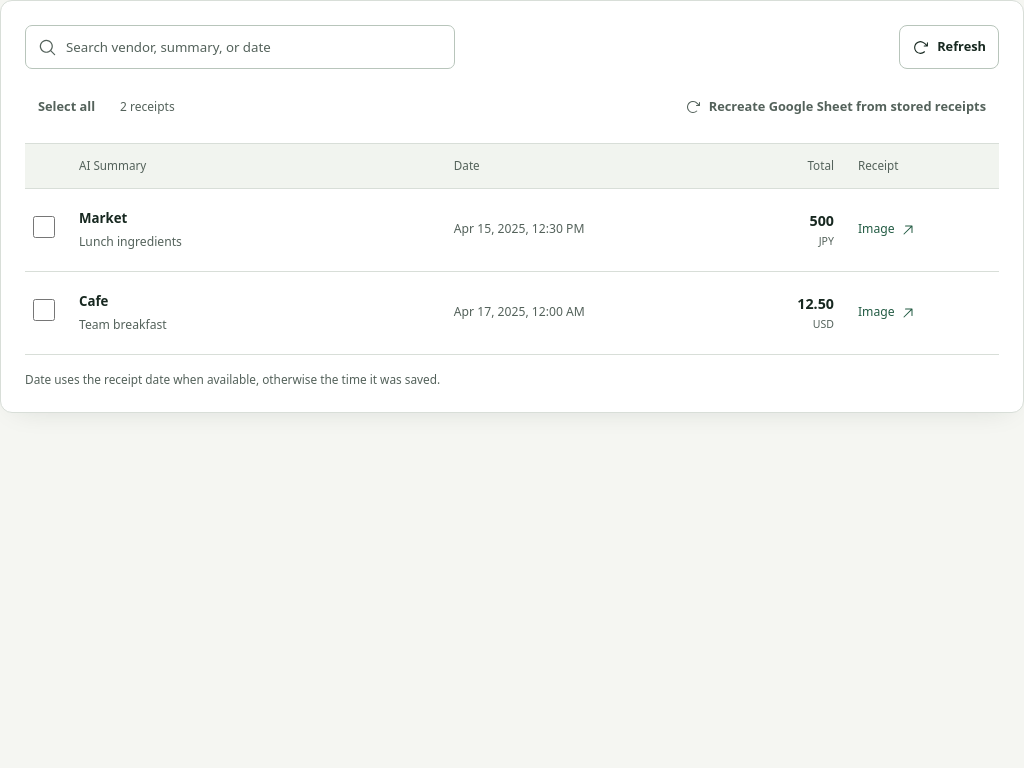
Test: confirmed deletion submits only selected IDs and reloads the list
Expected: the text "Cafe" is shown, x1=79 y1=292 x2=108 y2=310
Click the checkbox named "Select receipt cafe" at (44, 310), box x1=33 y1=299 x2=55 y2=321
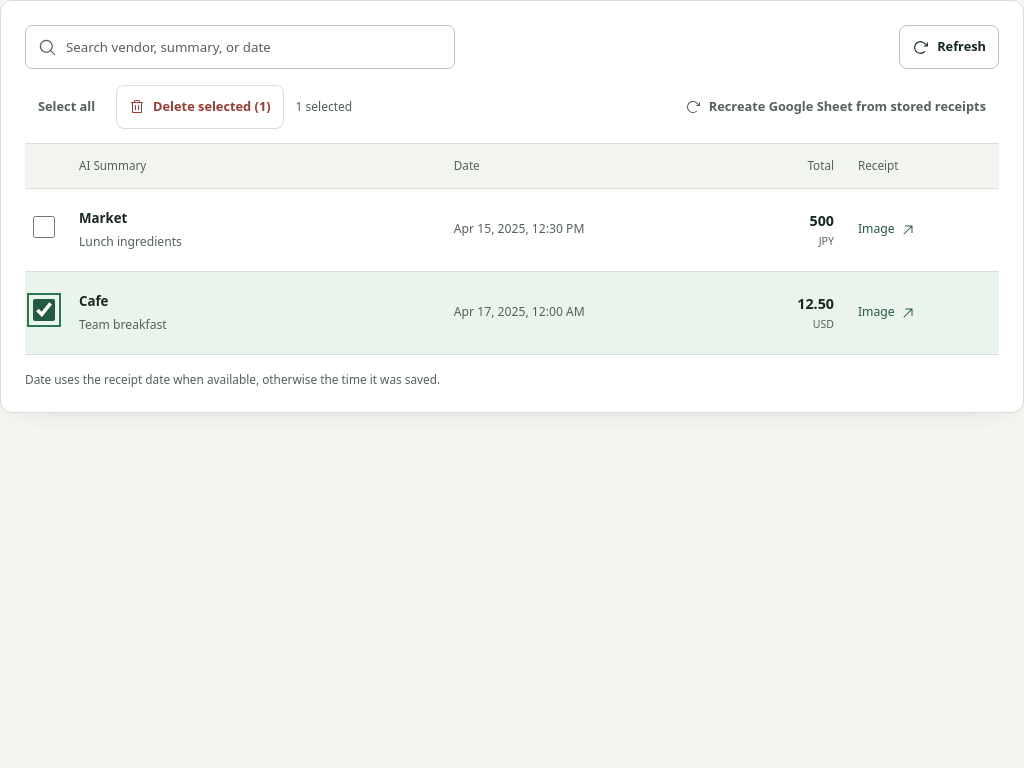
Click the button "Delete selected (1)" at (200, 107), box x1=116 y1=85 x2=284 y2=129
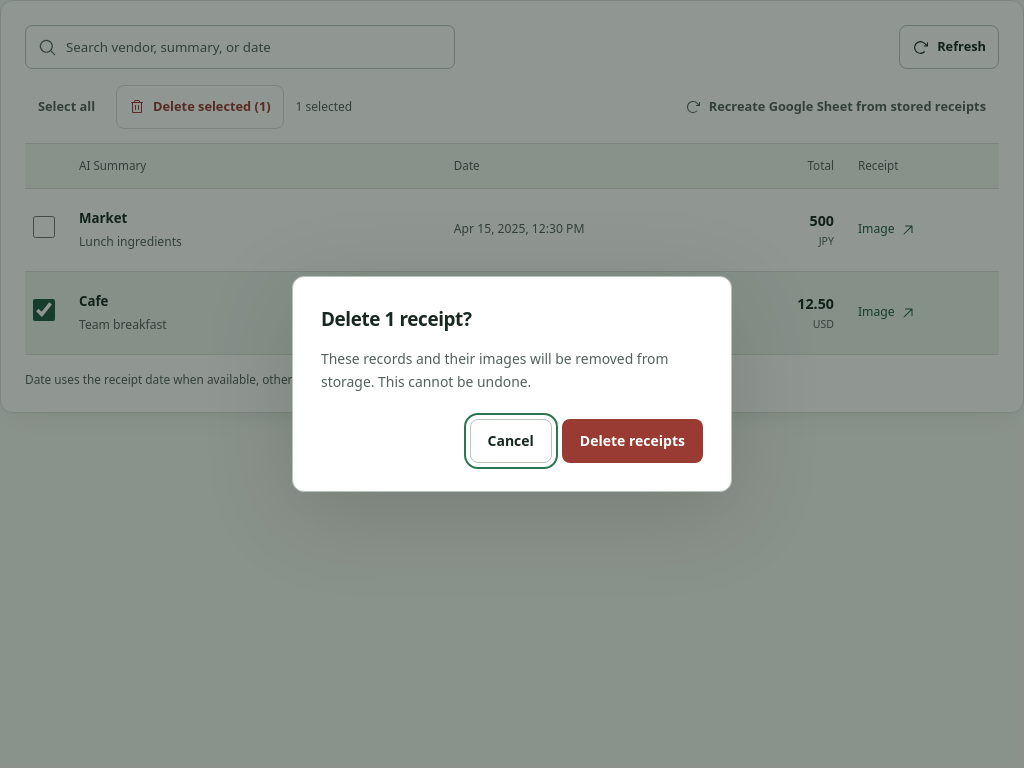
Click the button "Delete receipts" at (632, 441), box x1=562 y1=419 x2=703 y2=463
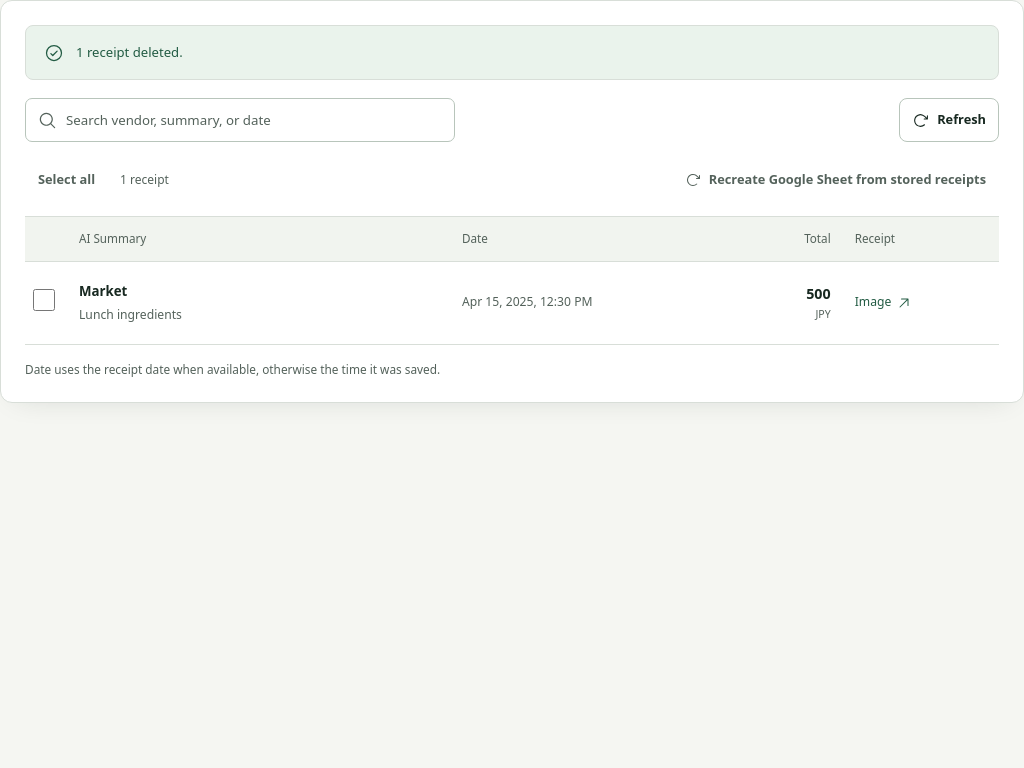
Result: the text "1 receipt deleted." is shown at x1=76 y1=42 x2=183 y2=63
Result: the text "Cafe" is gone
